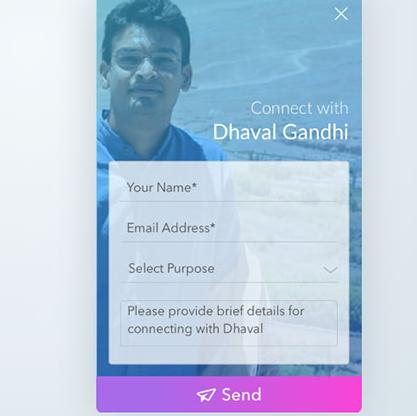button: (95, 375, 362, 414)
field: (119, 299, 340, 347)
field_line: (121, 218, 340, 245), (121, 259, 340, 284), (120, 178, 338, 203)
